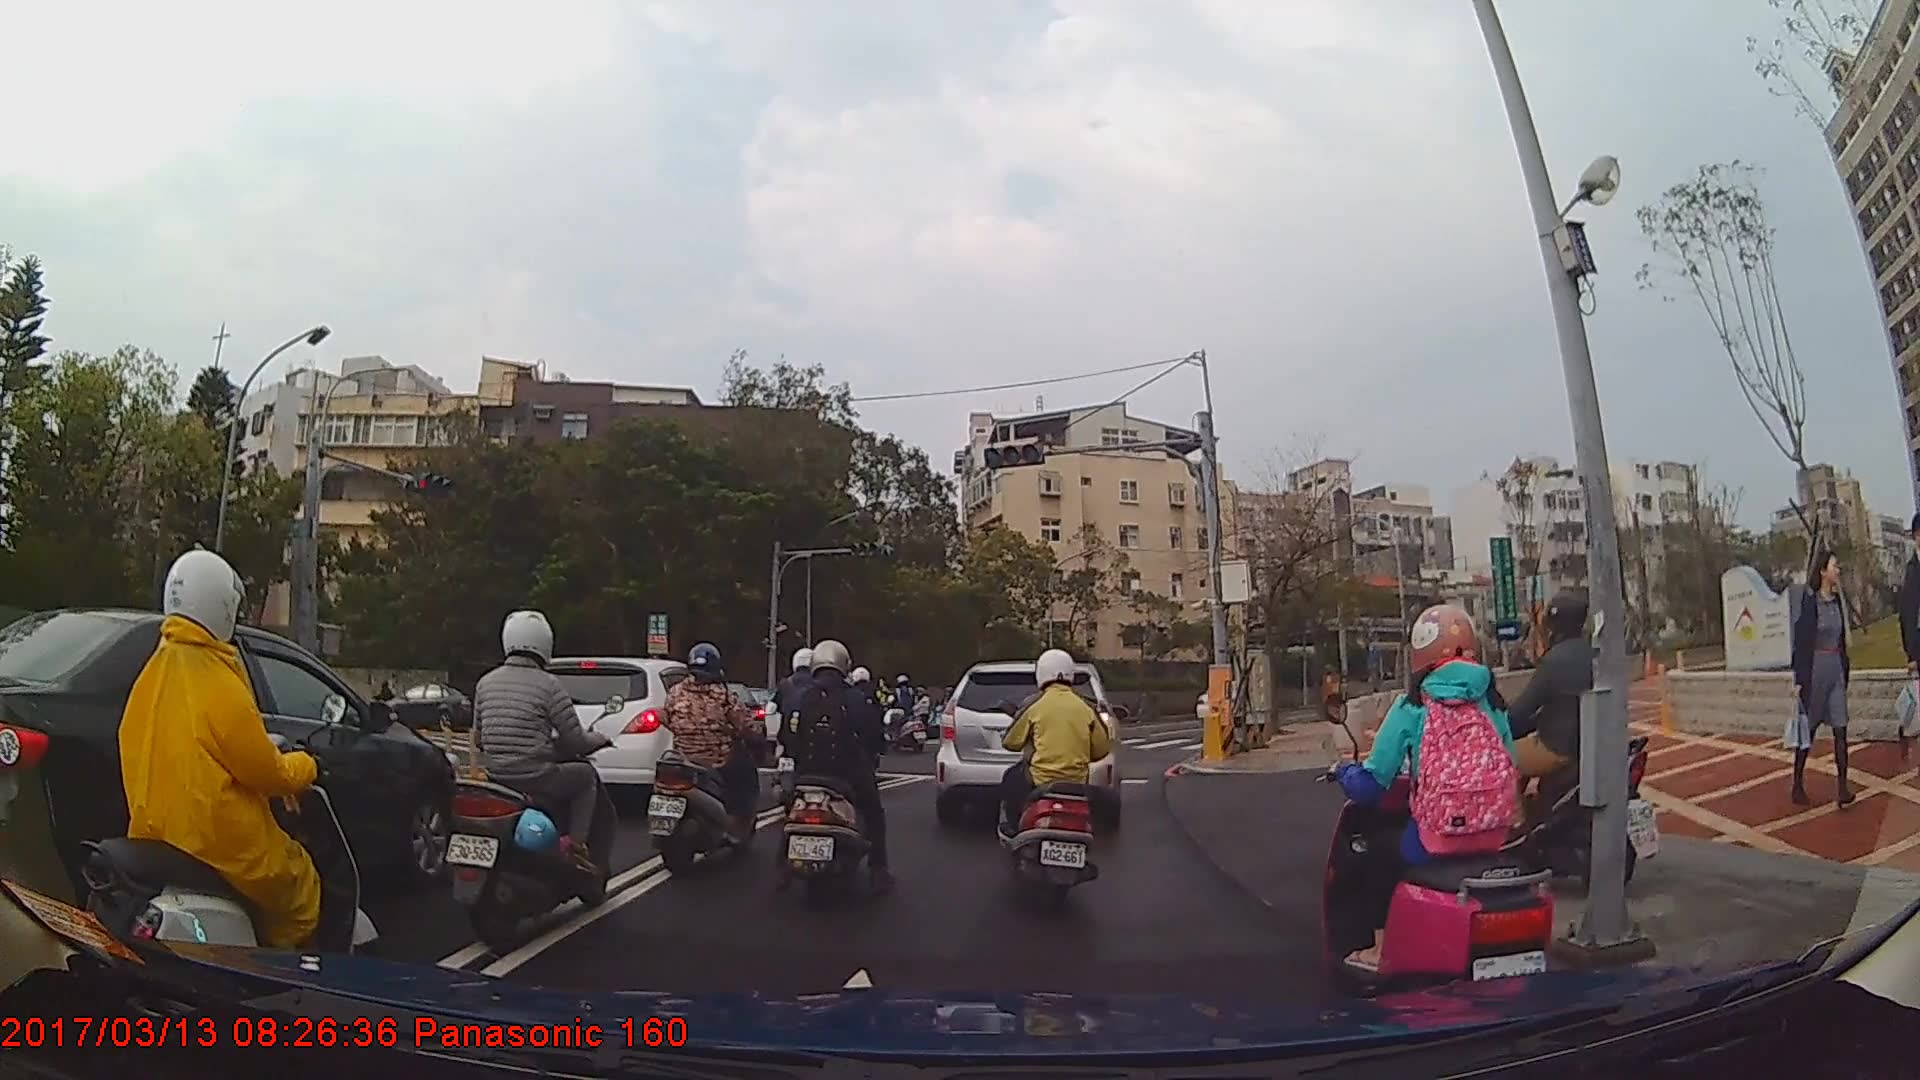pedestrian: (1801, 554, 1871, 809)
rider: (84, 545, 384, 1006), (1327, 608, 1555, 1012), (447, 606, 619, 952), (1463, 603, 1639, 903), (775, 638, 899, 913), (999, 649, 1114, 909), (645, 642, 770, 877), (771, 647, 846, 820)
vehicle: (0, 605, 461, 943), (517, 657, 751, 817), (930, 661, 1123, 826), (381, 682, 485, 731)
